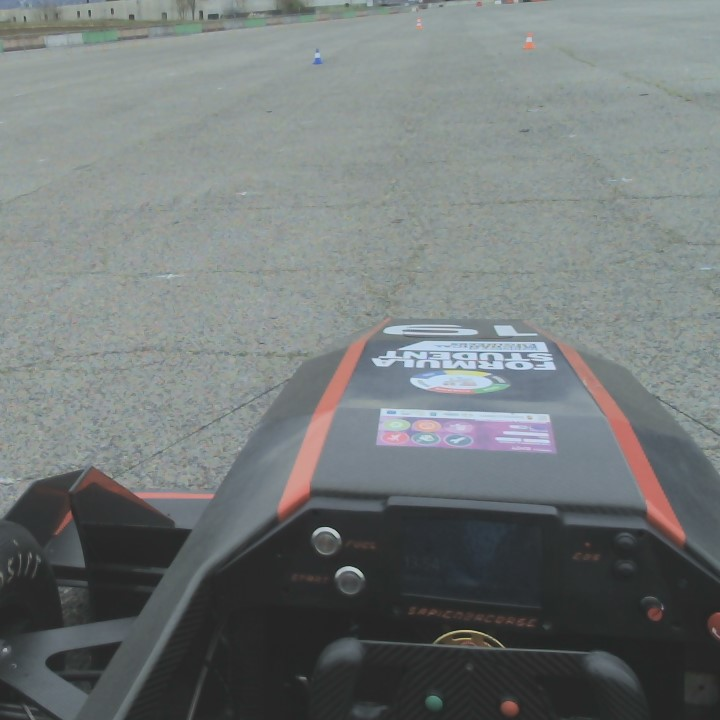cone: (310, 47, 322, 65)
